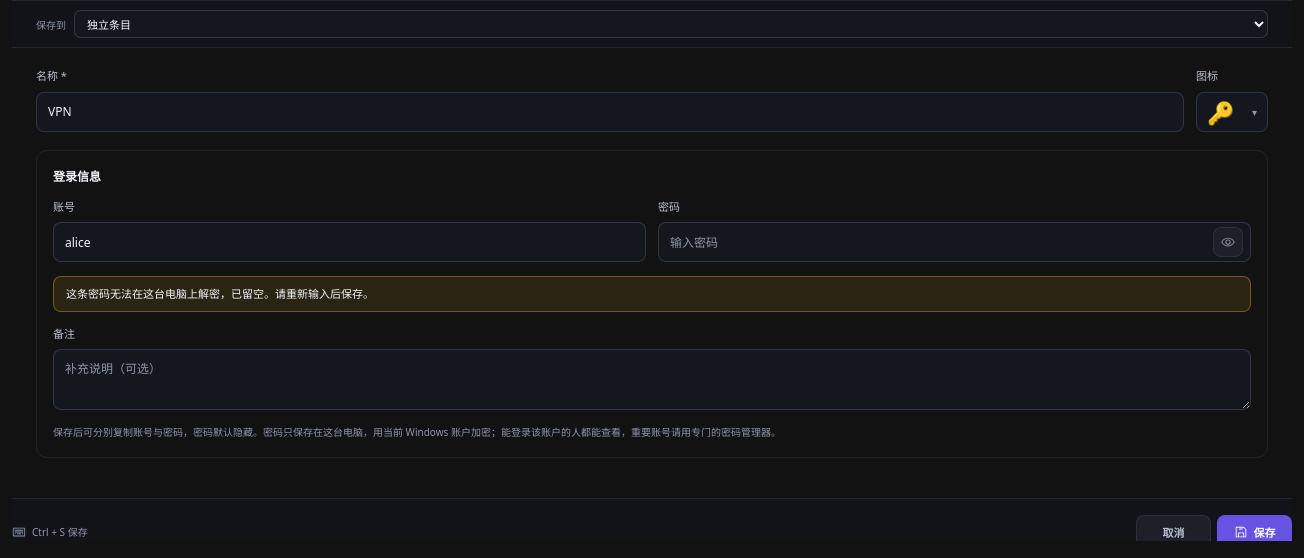
Test case: ItemForm › a password that could not be decrypted › explains that the password has to be typed again until one is entered
The image size is (1304, 558).
Expected: the text with test id "item-password-lost-note" shows "这条密码无法在这台电脑上解密", [66, 286, 374, 301]
In the password field with test id "item-password-input": (954, 242) [658, 222, 1251, 262], type "new-secret"
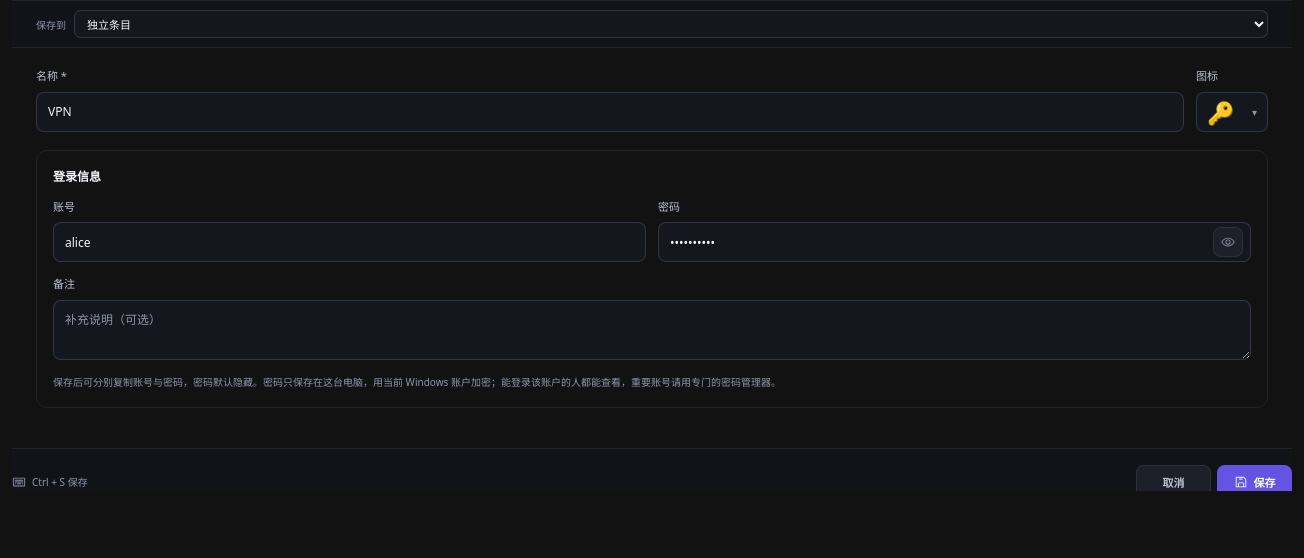
Result: the text with test id "item-password-lost-note" is gone
